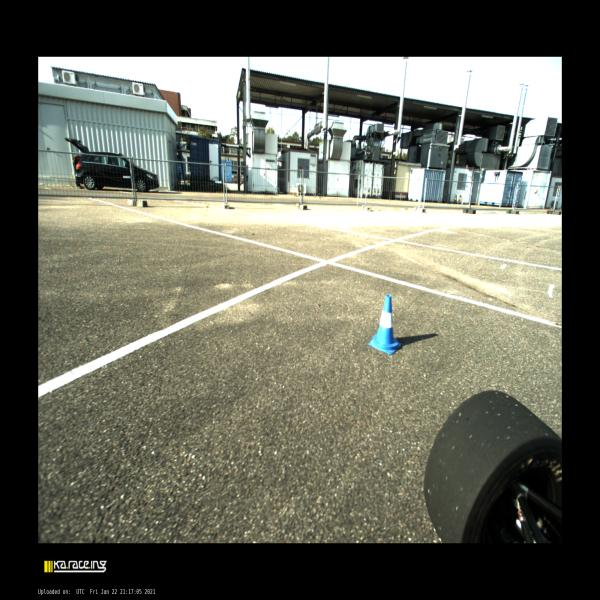blue_cone: (368, 295, 401, 354)
